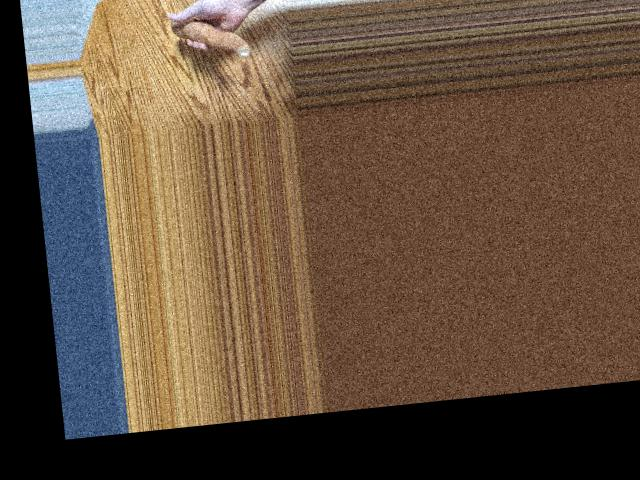sweet_potato: (173, 13, 254, 63)
